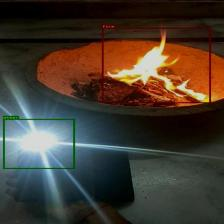fire: (102, 28, 210, 103)
